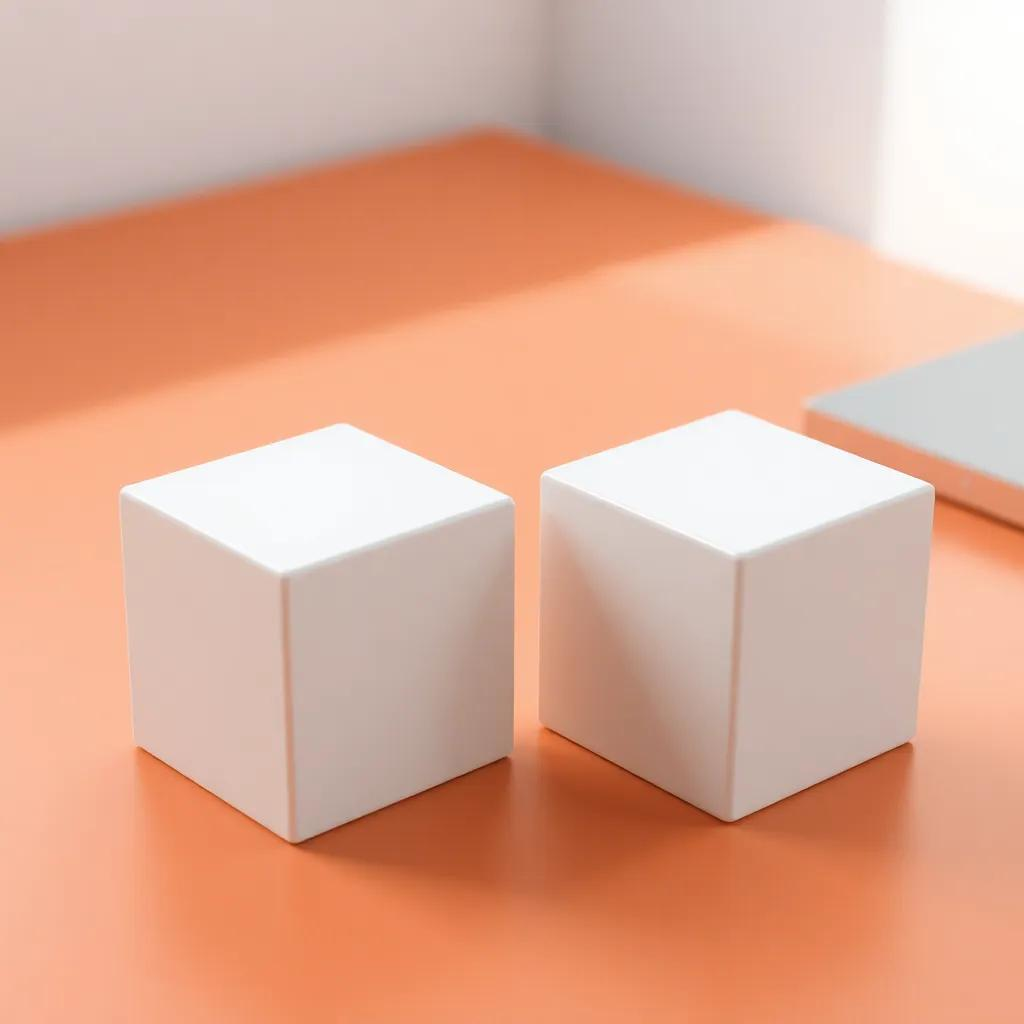cube: (117, 420, 516, 844), (537, 406, 935, 823)
